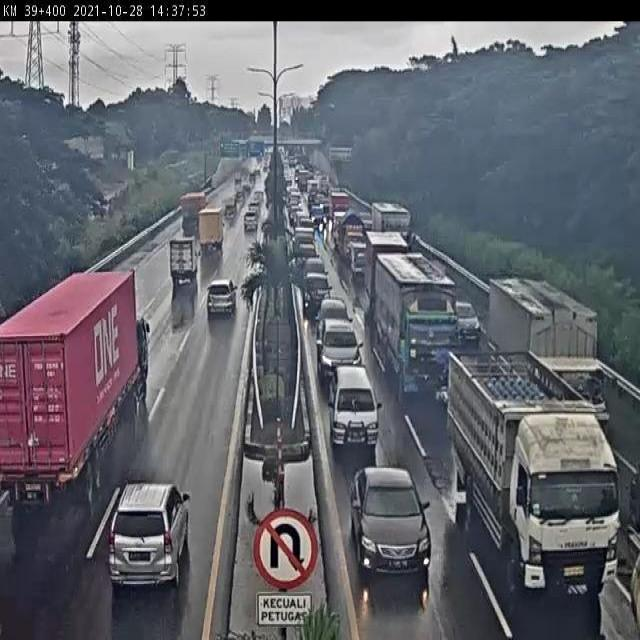big truck: (483, 366, 640, 640), (26, 256, 165, 477), (386, 276, 464, 379), (202, 207, 226, 256)
car: (348, 456, 438, 581), (111, 472, 203, 576), (333, 367, 385, 445), (318, 317, 368, 376), (316, 295, 359, 341), (207, 266, 241, 322), (305, 270, 335, 318), (457, 299, 482, 341)
small truck: (496, 287, 617, 397), (168, 249, 208, 296)
